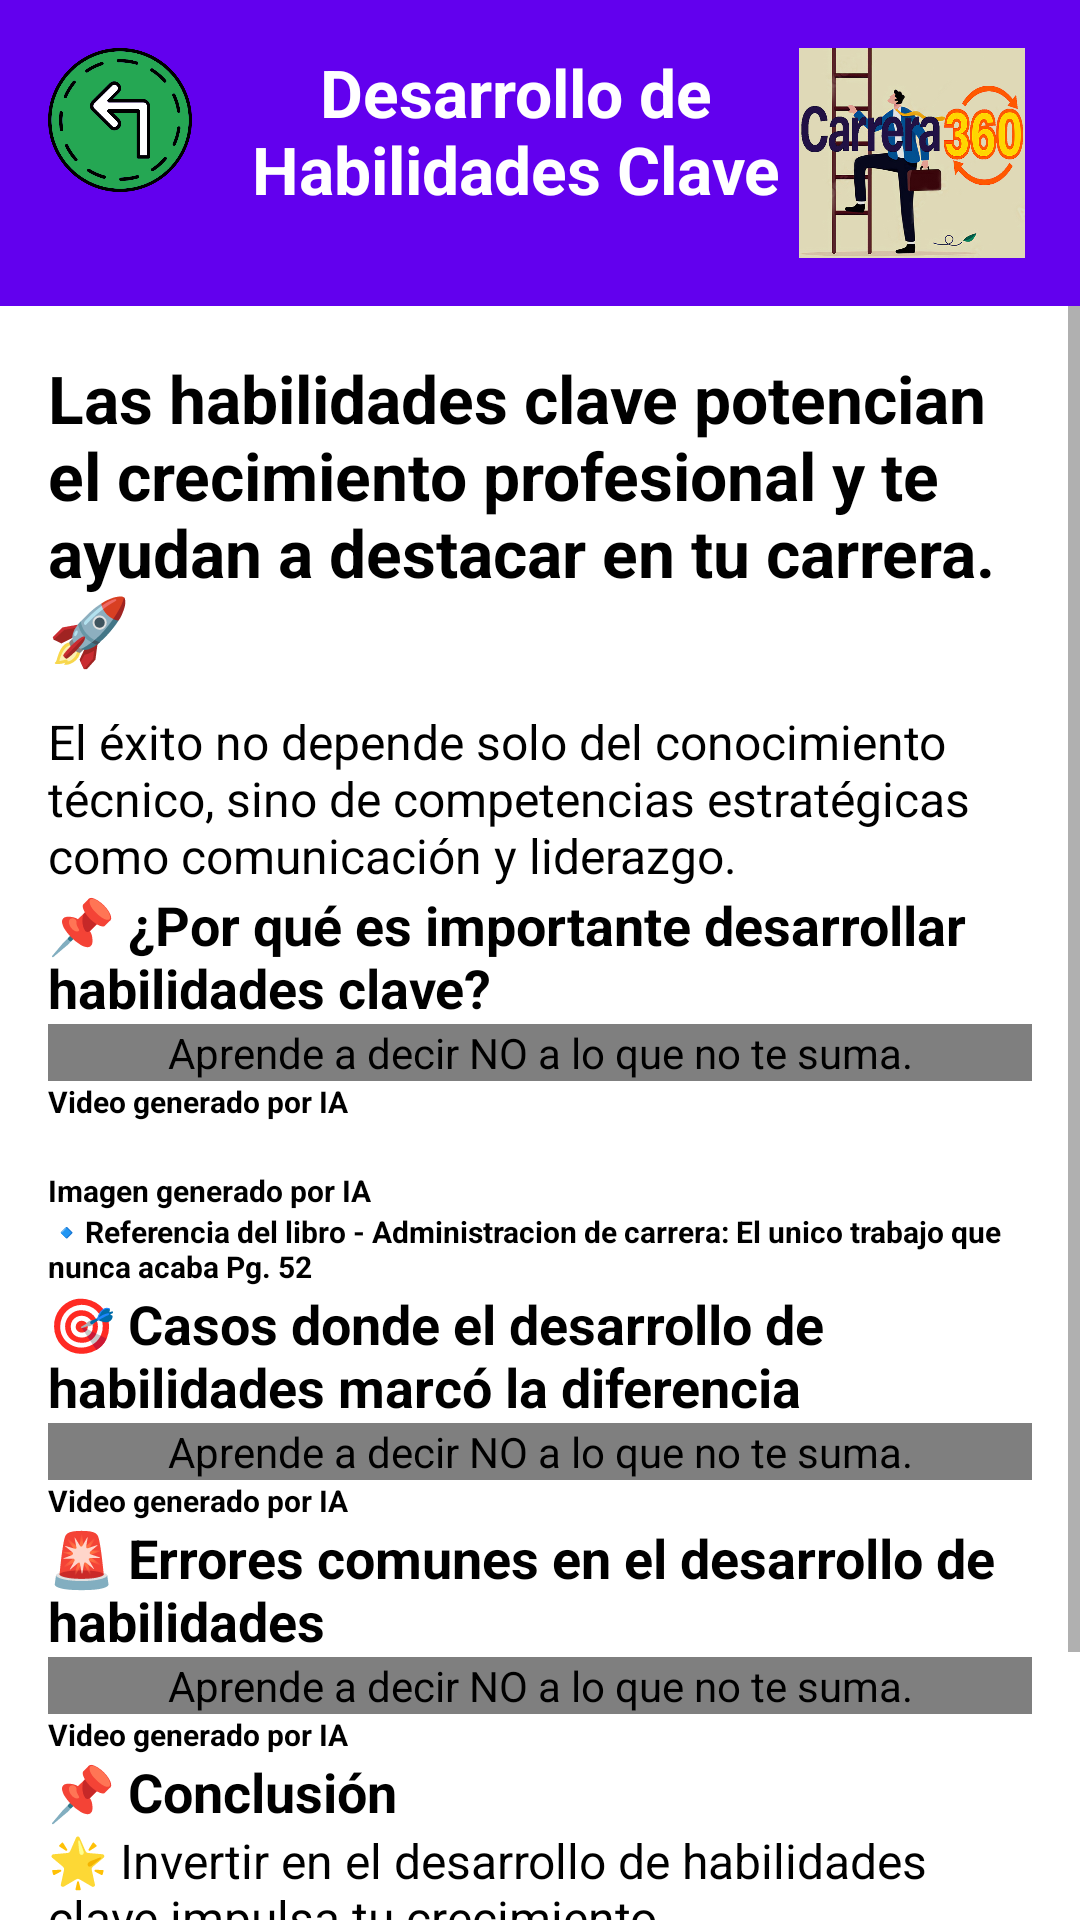

Icons on this 1080px×1920px Android screen, each with its box as {"x1": x1, "y1": y1, "x2": x2, "y2": y2}:
Regresar a Inicio: {"x1": 48, "y1": 48, "x2": 192, "y2": 192}
